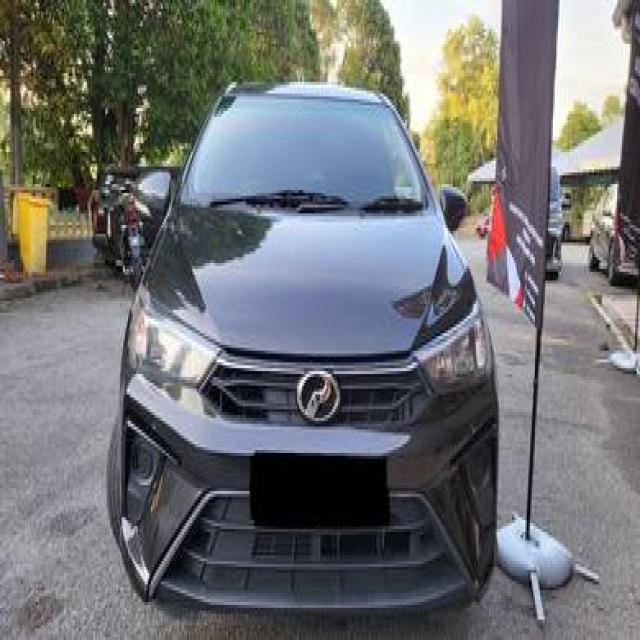PeroduaBezza: (104, 78, 501, 613)
